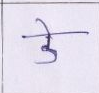e_matra: (36, 18, 53, 34)
